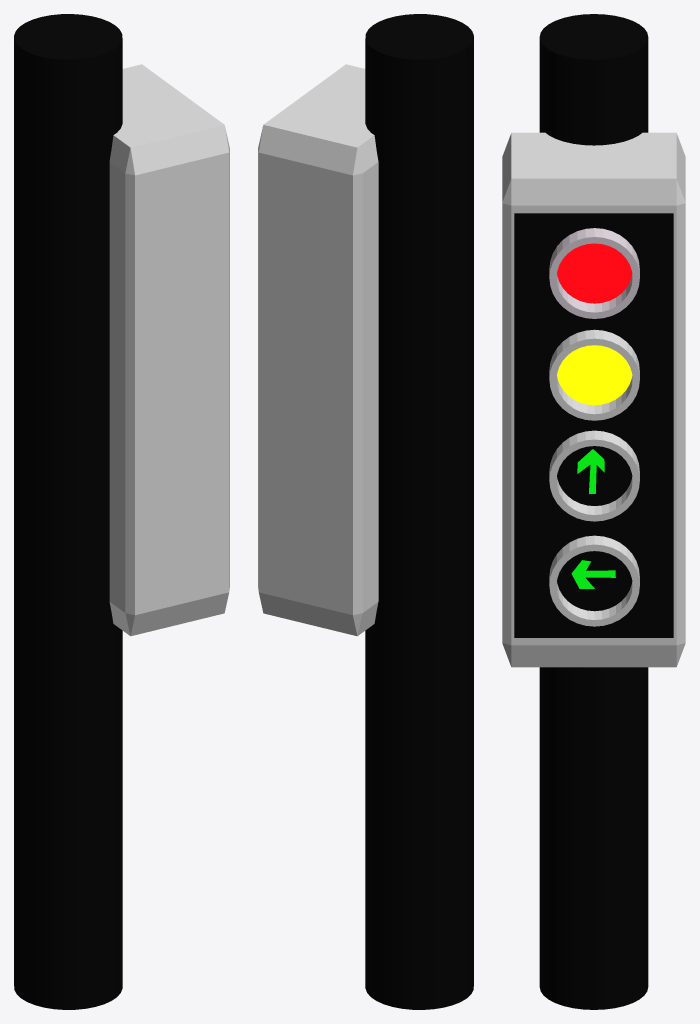
The model's file is uk_traffic_light_1(arrows).fbx.
3 views of the same model, side by side, from view 1: azimuth 30°, elevation 25°; view 2: azimuth 150°, elevation 25°; view 3: azimuth 270°, elevation 25° (orthographic).
Parts seen in each view (by area): view 1: Cylinder, Cube; view 2: Cylinder, Cube; view 3: Cube, Cylinder, Circle.003, Circle, Circle.001, Circle.002.
Part boxes in pixels (bbox=[...]): Cylinder: bbox=[14, 14, 122, 1009]; Cube: bbox=[109, 64, 229, 636]; Cylinder: bbox=[365, 14, 473, 1009]; Cube: bbox=[258, 64, 378, 636]; Cube: bbox=[502, 132, 685, 667]; Cylinder: bbox=[539, 14, 648, 1009]; Circle.003: bbox=[549, 535, 639, 626]; Circle: bbox=[549, 228, 639, 318]; Circle.001: bbox=[549, 329, 639, 420]; Circle.002: bbox=[549, 430, 639, 521].
Bounding box in the file's own units: 7.1 × 34.73 × 6.09.
